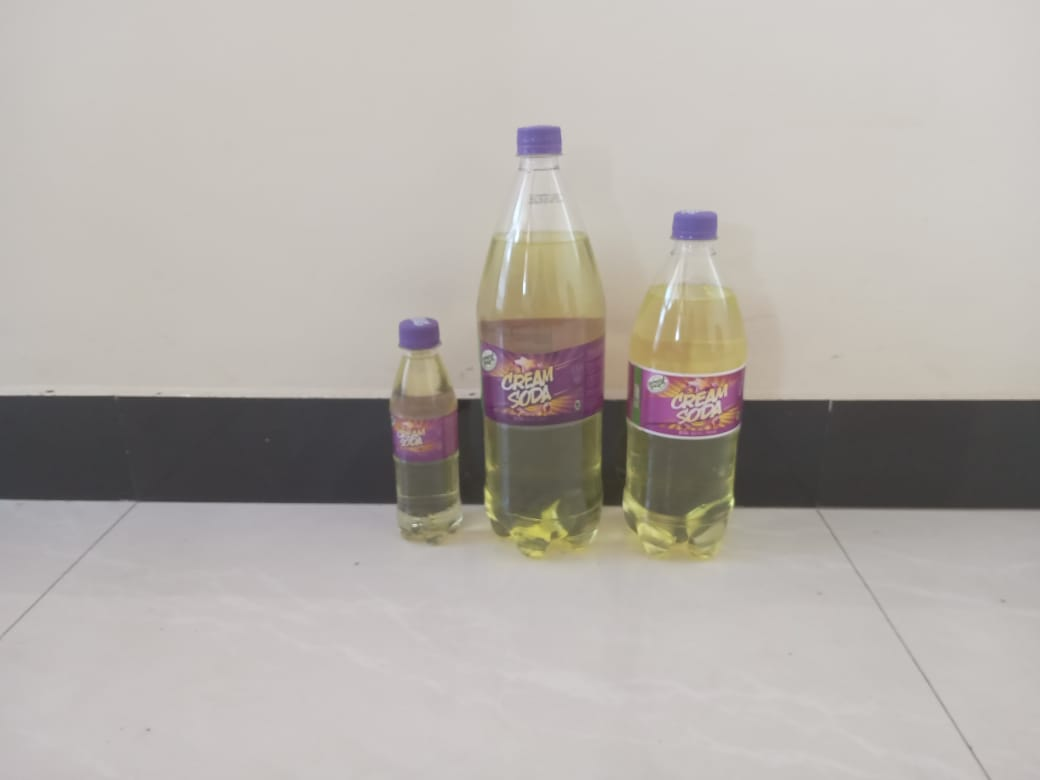L: (477, 126, 609, 561)
M: (623, 210, 748, 565)
Xs: (385, 322, 463, 545)
